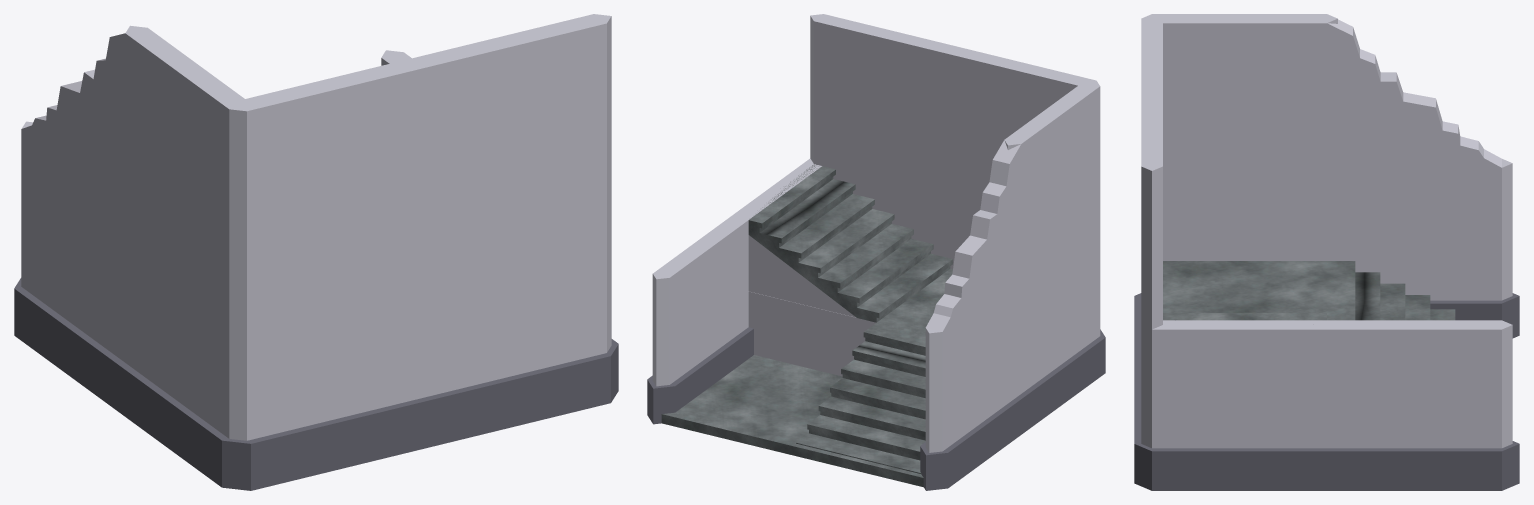
The model's file is corner_stair_01.fbx.
3 views of the same model, side by side, from view 1: azimuth 30°, elevation 25°; view 2: azimuth 150°, elevation 25°; view 3: azimuth 270°, elevation 25° (orthographic). The views are drawn at different scales.
Parts seen in each view (by area): view 1: wall_corner_39, corner_01_24, wall_straight_41, corner_01_25, wall_01_27, wall_ruined_42; view 2: wall_corner_39, wall_straight_41, stairs_07_34, wall_01_26, wall_01_27, corner_01_24, stairs_07_28, floor_01_23, wall_ruined_42, raised_floor_01_33, corner_01_25, block_default_44; view 3: corner_01_25, wall_01_26, wall_corner_39, wall_01_27, wall_ruined_42, corner_01_24, block_default_44, wall_straight_41, stairs_07_28, stairs_07_34.
Part boxes in pixels (x1,y1,x2,y2): wall_corner_39: [125, 25, 430, 299]; corner_01_24: [118, 222, 430, 490]; wall_straight_41: [410, 14, 611, 255]; corner_01_25: [420, 204, 618, 446]; wall_01_27: [14, 146, 128, 411]; wall_ruined_42: [21, 28, 146, 220]; wall_corner_39: [947, 47, 1100, 286]; wall_straight_41: [810, 14, 961, 196]; stairs_07_34: [748, 164, 952, 322]; wall_01_26: [647, 215, 753, 424]; wall_01_27: [920, 287, 1026, 490]; corner_01_24: [950, 197, 1105, 430]; stairs_07_28: [796, 322, 925, 473]; floor_01_23: [661, 355, 923, 487]; wall_ruined_42: [925, 139, 1021, 345]; raised_floor_01_33: [748, 291, 875, 376]; corner_01_25: [732, 158, 950, 328]; block_default_44: [877, 268, 952, 334]; corner_01_25: [1134, 320, 1334, 490]; wall_01_26: [1316, 320, 1519, 490]; wall_corner_39: [1141, 14, 1337, 181]; wall_01_27: [1327, 177, 1519, 338]; wall_ruined_42: [1316, 15, 1512, 181]; corner_01_24: [1134, 181, 1326, 372]; block_default_44: [1163, 261, 1326, 312]; wall_straight_41: [1141, 88, 1162, 329]; stairs_07_28: [1327, 261, 1455, 320]; stairs_07_34: [1163, 313, 1326, 320].
Bounding box in the file's own units: 22.05 × 20 × 22.05.
